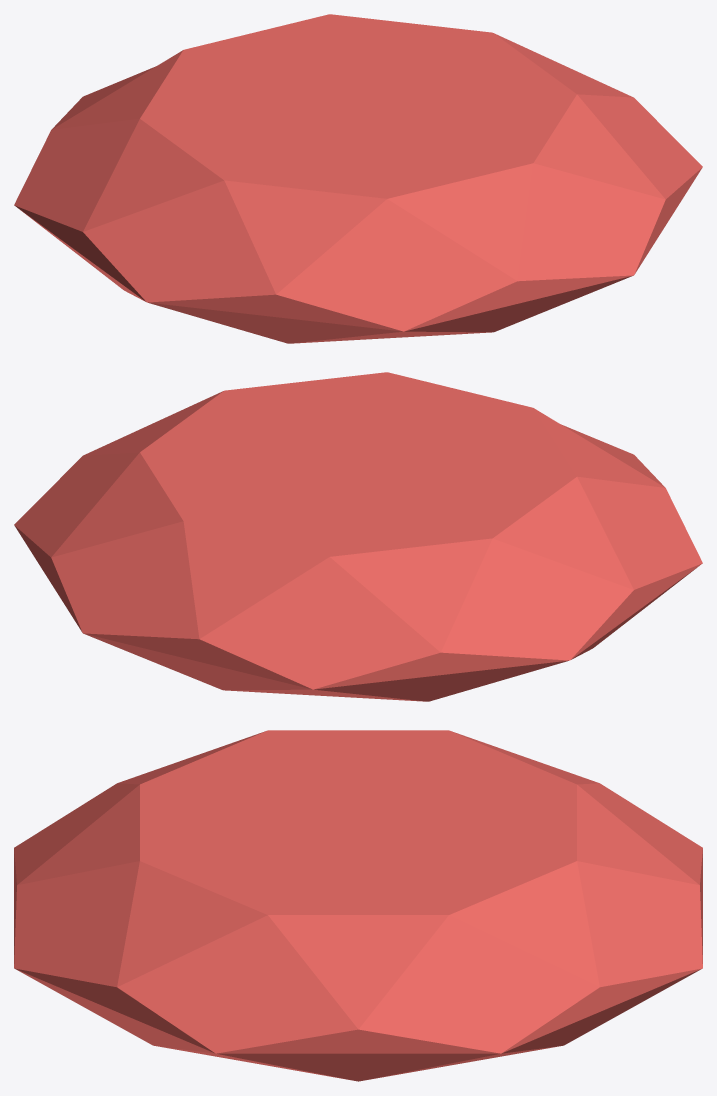
Rendered from Gem.fbx.
The picture shows the model from 3 angles, top to bottom: view 1: azimuth 30°, elevation 25°; view 2: azimuth 150°, elevation 25°; view 3: azimuth 270°, elevation 25°; orthographic projection. The views are drawn at different scales.
Visible parts, largest first — view 1: Gem; view 2: Gem; view 3: Gem.
Part boxes in pixels (box(x1,y1,x2,y2)): Gem: box(14, 14, 702, 343); Gem: box(14, 372, 702, 701); Gem: box(14, 730, 702, 1081).
Bounding box in the file's own units: 1.85 × 0.4025 × 1.85.
